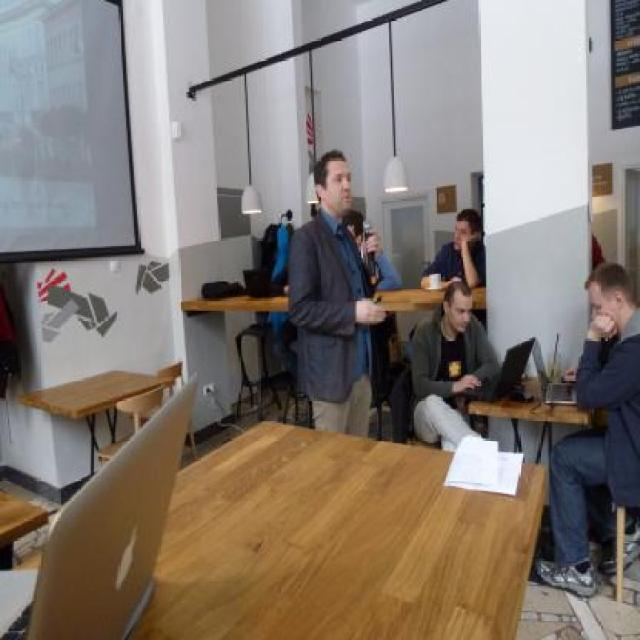Person: (536, 266, 639, 608), (282, 149, 392, 440), (404, 284, 501, 458), (419, 208, 486, 341), (347, 210, 398, 319), (266, 262, 299, 393)
